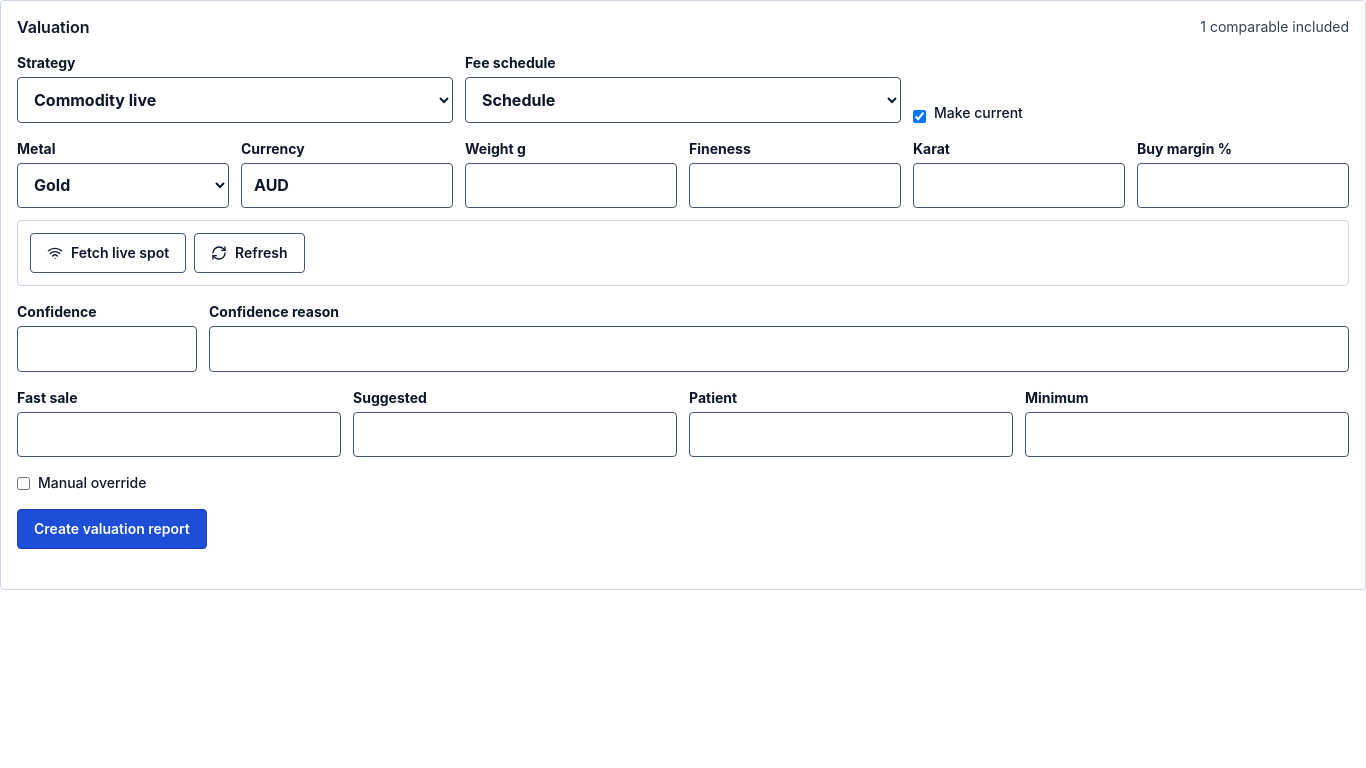
Test: ValuationPanel shows live spot source and timestamp
Click the button "Fetch live spot" at (108, 253), box [30,233,186,273]
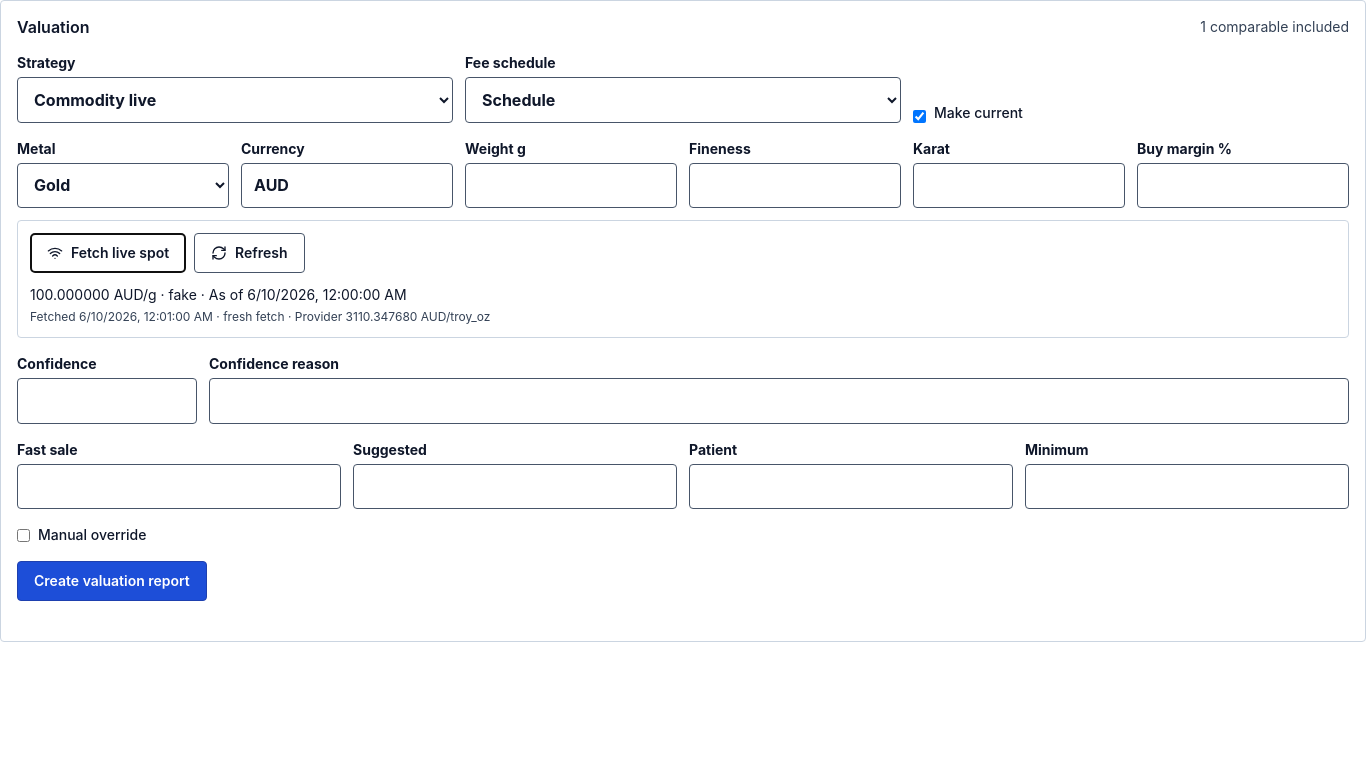
Now the text "100.000000 AUD/g · fake · As of 6/10/2026, 12:00:00 AM" is shown, box [30,286,407,303]
Now the text "Provider 3110.347680 AUD/troy_oz" is shown, box [30,309,490,324]
